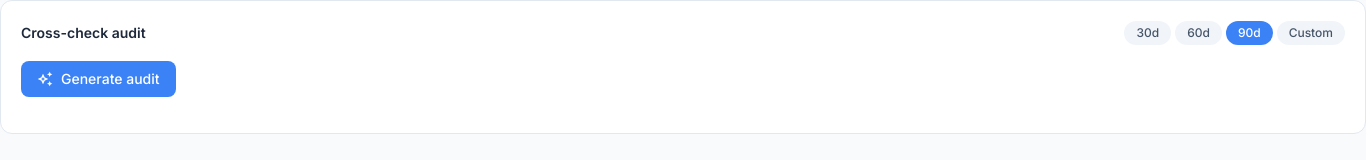
it: CrossCheckAudit › button is disabled while loading
The width and height of the screenshot is (1366, 160).
Click the button "Generate audit".
click(98, 79)  # box [21,61,176,97]
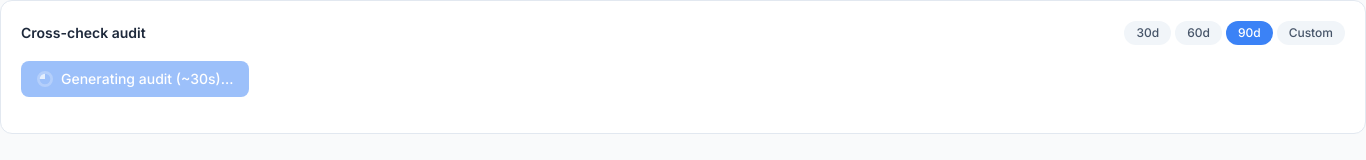
Result: the button "Generating audit (~30s)..." is disabled at [21,61,249,97]
